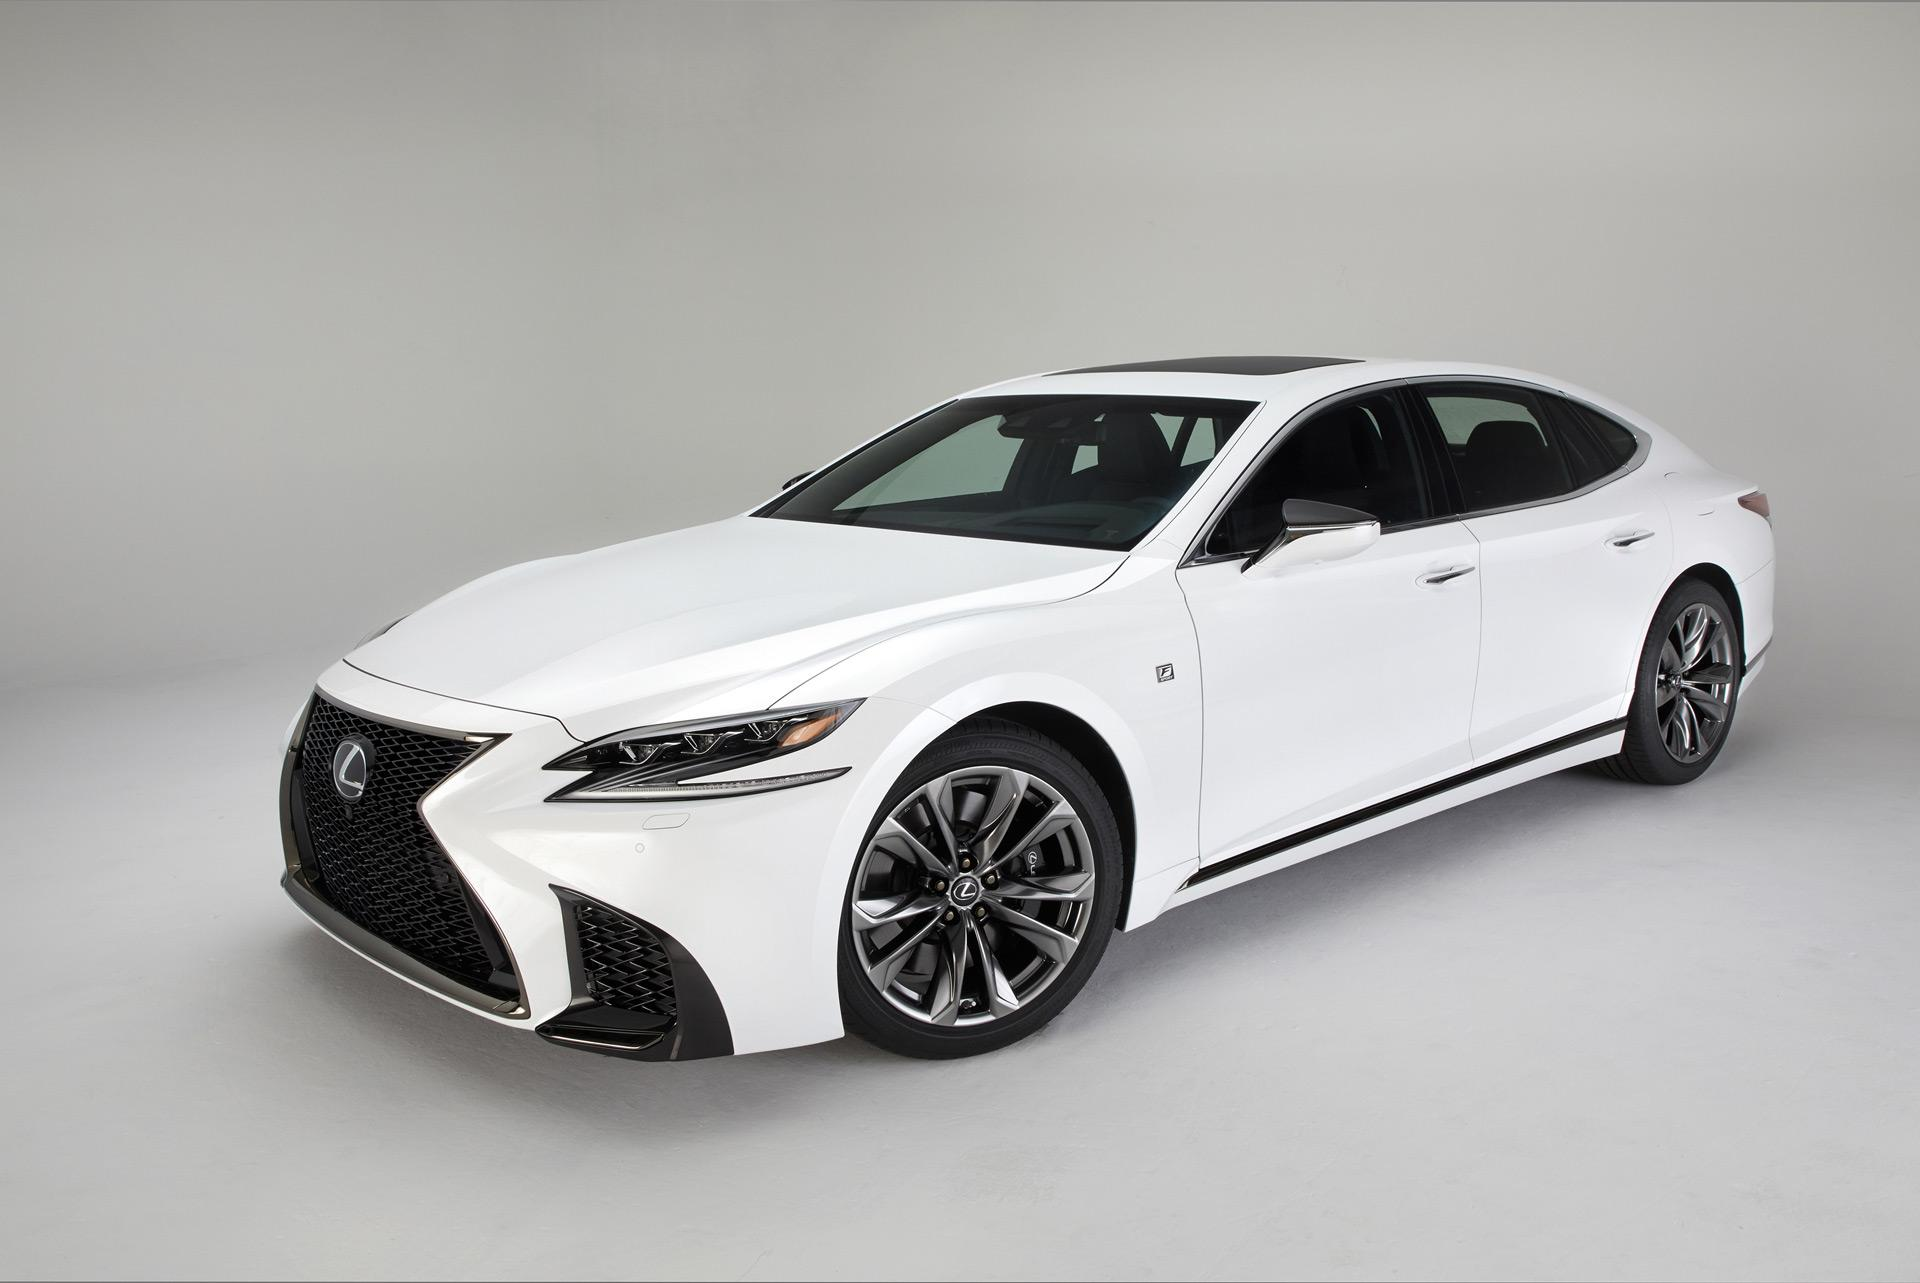car: (259, 355, 1795, 1070)
